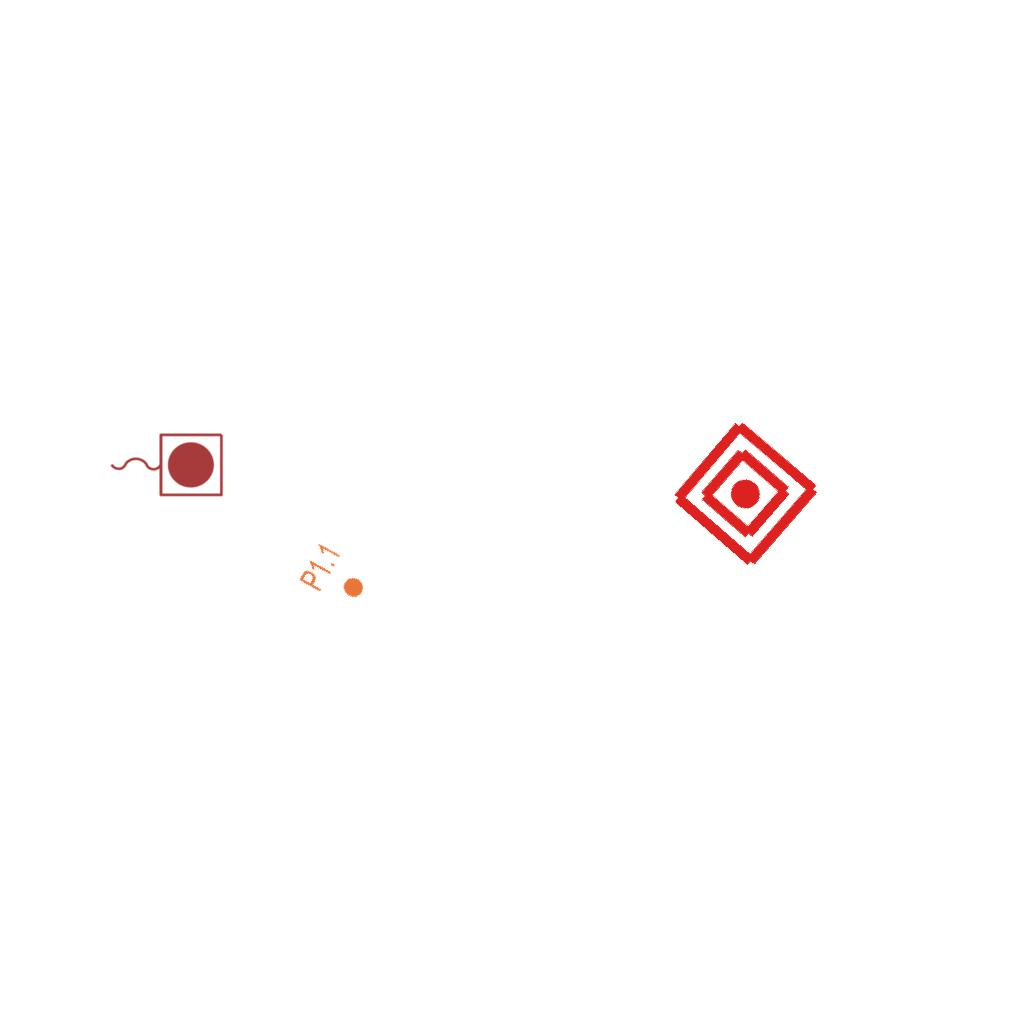Downlight_LED_Einbauleuchten_Flur: (296, 540, 376, 612)
NAM-Nichtautomatischer_Melder: (665, 413, 826, 574)
Zugtaster: (105, 428, 227, 500)
